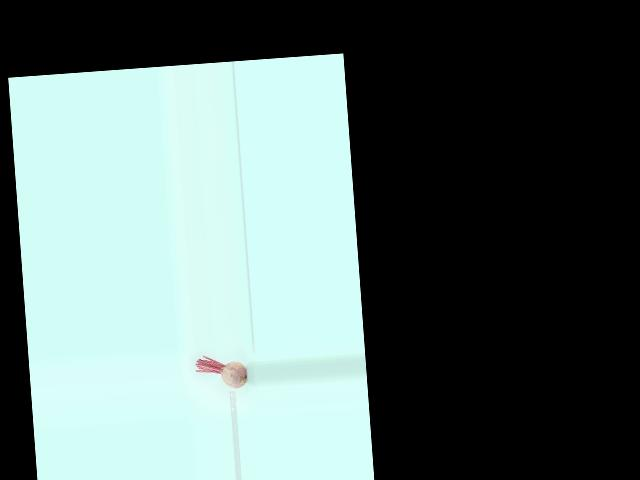beet: (195, 353, 247, 391)
